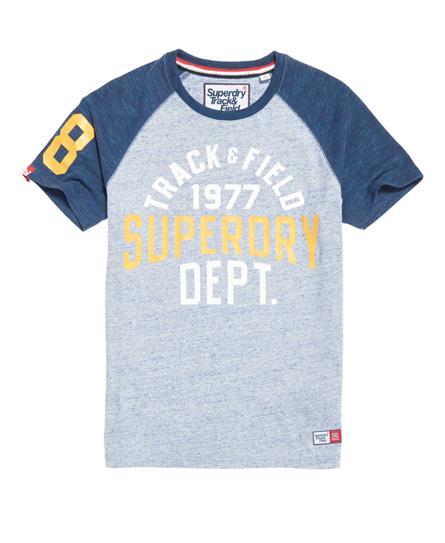teeshirt: (24, 37, 445, 482)
